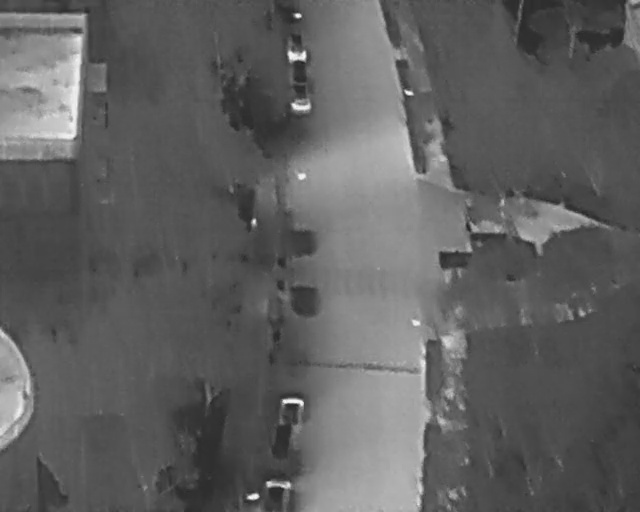Car: (275, 394, 306, 435), (263, 477, 293, 510), (290, 82, 311, 113), (287, 32, 307, 61), (290, 58, 309, 86)
